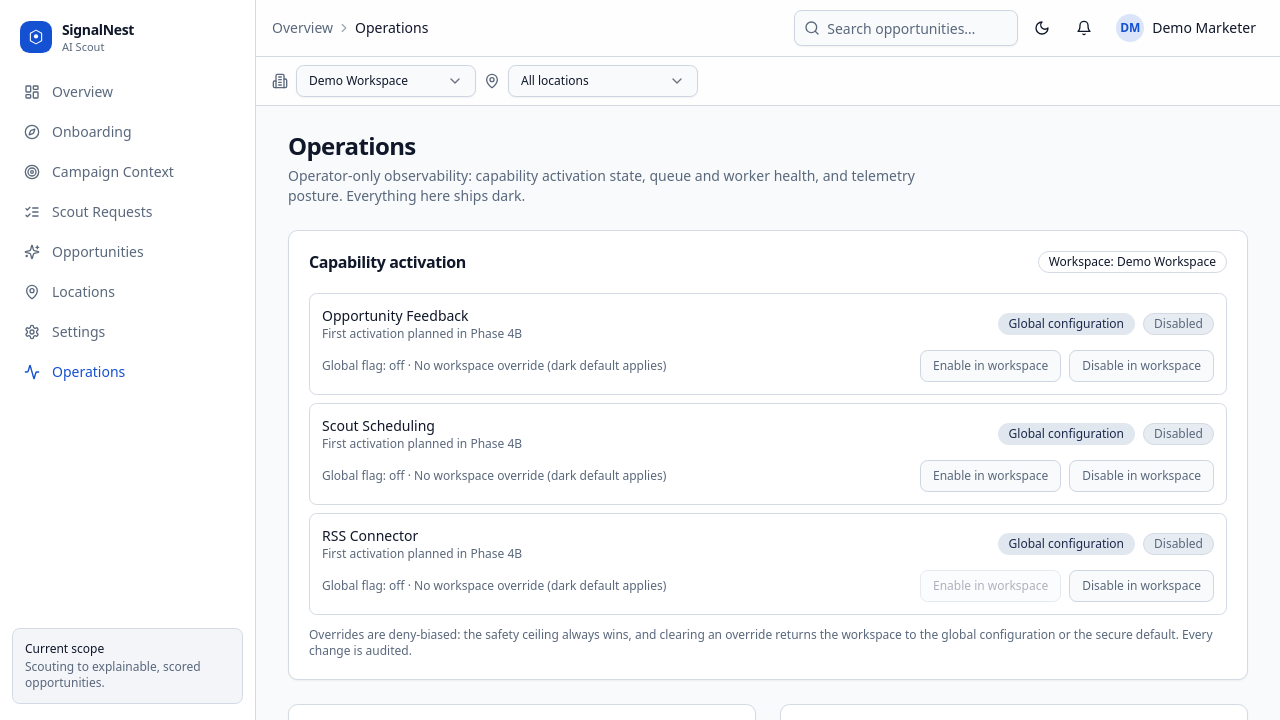
Test case: operations page — override mutations › surfaces a failed mutation without pretending success
The image size is (1280, 720).
Click the 1st button "Enable in workspace": (991, 366) [920, 350, 1061, 382]
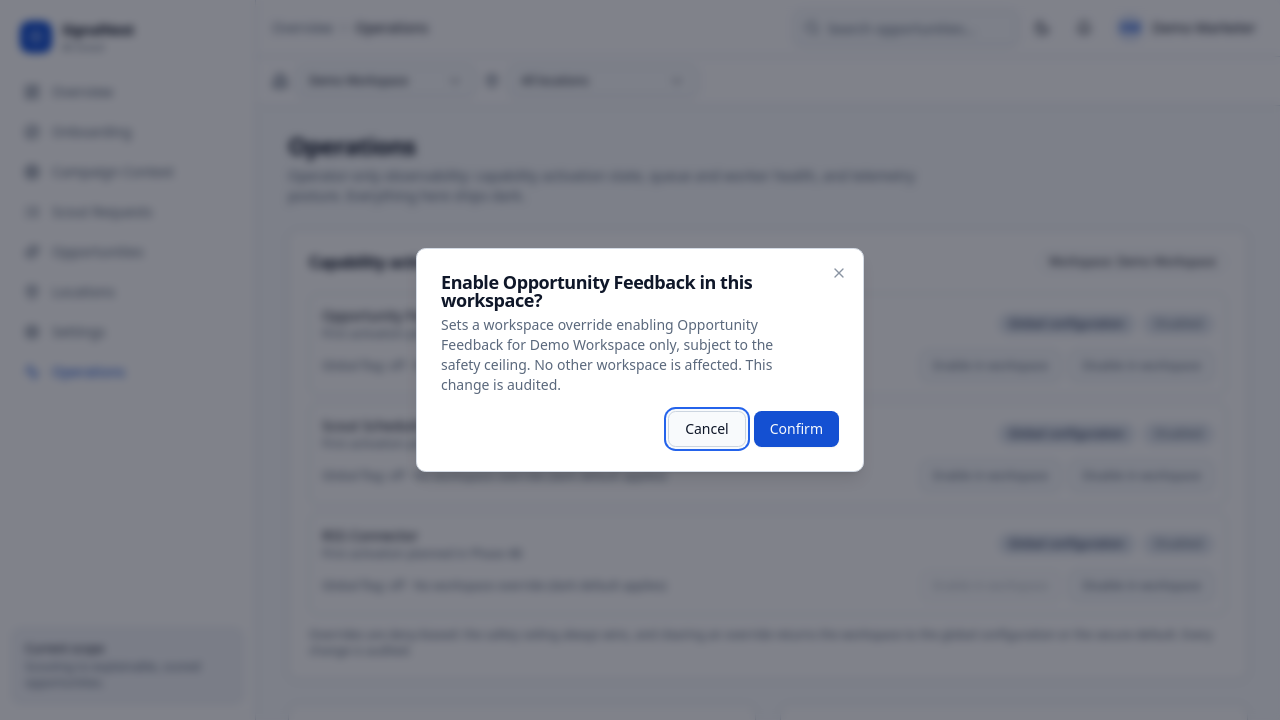
Click the button "Confirm": (796, 429) [754, 411, 839, 447]
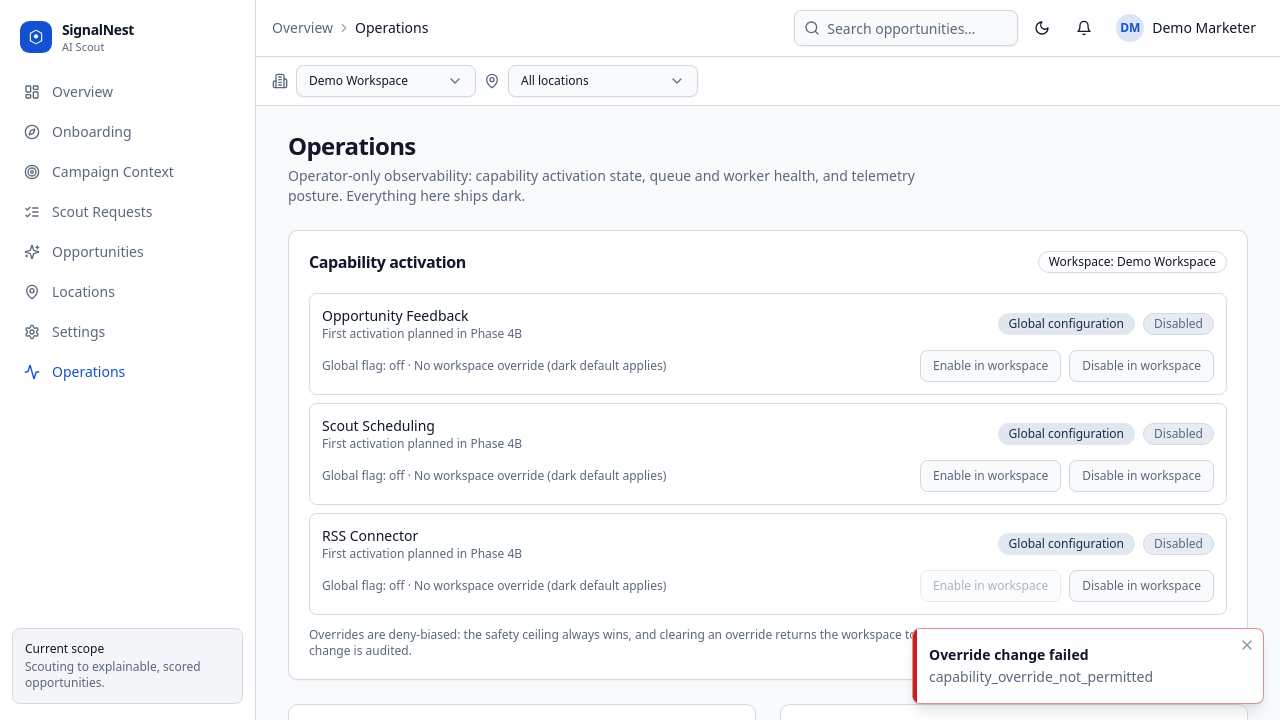
Expected: the text "Disabled" in the row of "Opportunity Feedback" is shown, [1154, 315, 1203, 332]
Expected: the text "Override change failed" is shown, [929, 645, 1088, 664]
